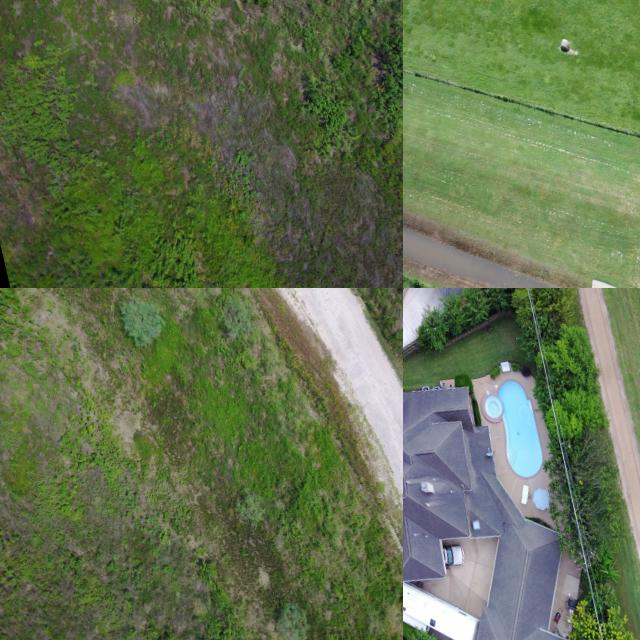fire: (403, 228, 558, 288)
